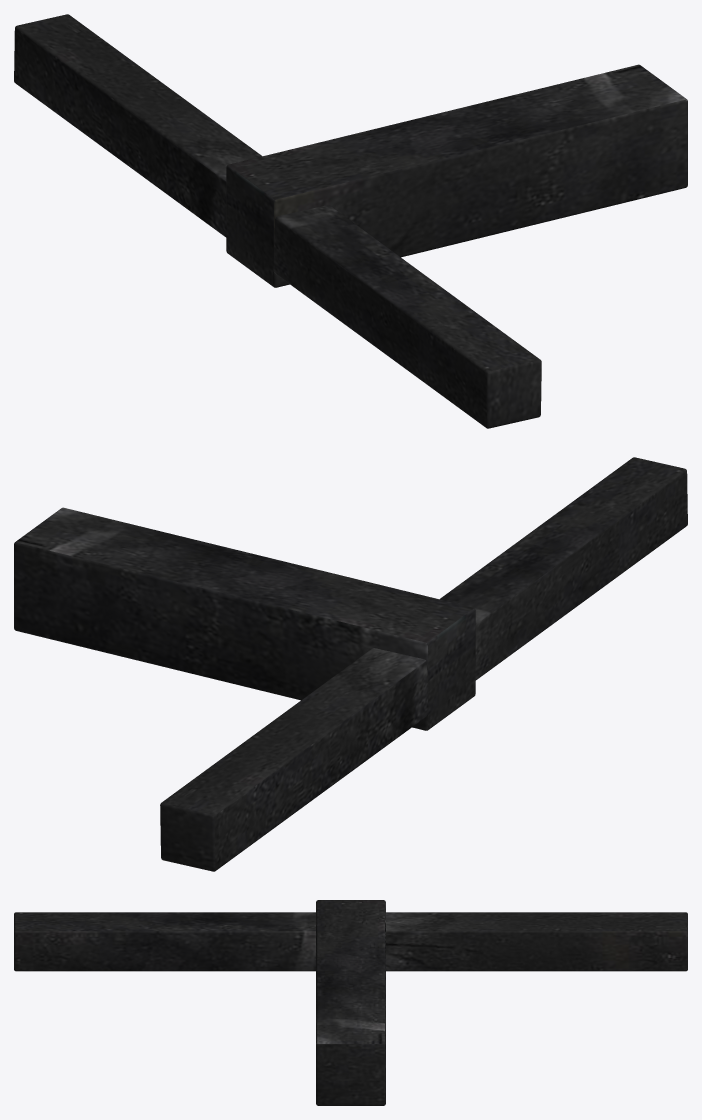
Rendered from SM_Horror_Attic_Beem.fbx.
The picture shows the model from 3 angles, top to bottom: view 1: azimuth 30°, elevation 25°; view 2: azimuth 150°, elevation 25°; view 3: azimuth 270°, elevation 25°; orthographic projection. The views are drawn at different scales.
Parts seen in each view (by area): view 1: SM_Horror_Attic_Beem; view 2: SM_Horror_Attic_Beem; view 3: SM_Horror_Attic_Beem.
Boxes of the visible parts, <box> form: SM_Horror_Attic_Beem: <box>14,14,687,428</box>; SM_Horror_Attic_Beem: <box>14,457,687,871</box>; SM_Horror_Attic_Beem: <box>14,900,687,1105</box>.
Bounding box in the file's own units: 155 × 307 × 31.73.
Materials: 1 (1 with a texture image).
